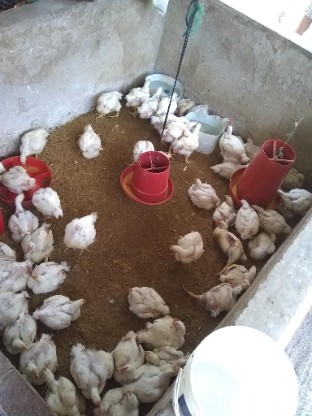Pollos: (66, 338, 111, 405), (131, 362, 184, 403), (194, 282, 250, 319), (41, 363, 80, 416), (135, 314, 196, 347), (109, 328, 145, 383), (126, 272, 169, 318), (29, 247, 73, 291), (63, 210, 105, 255), (35, 290, 87, 326), (21, 336, 60, 384), (19, 119, 57, 162), (252, 201, 292, 239), (4, 310, 37, 355), (23, 217, 55, 262), (139, 338, 185, 369), (213, 219, 244, 265), (168, 227, 204, 265), (186, 173, 221, 212), (218, 123, 251, 164), (172, 124, 206, 162), (11, 190, 34, 244), (0, 252, 33, 289), (0, 287, 29, 329), (0, 155, 34, 190), (277, 179, 312, 213), (250, 231, 281, 267), (31, 186, 61, 222), (221, 264, 261, 290), (203, 155, 244, 180), (235, 196, 259, 238), (77, 119, 102, 159), (158, 117, 194, 141), (125, 78, 154, 107), (95, 86, 122, 117), (280, 157, 305, 188), (112, 391, 142, 416), (153, 94, 184, 117), (215, 189, 235, 224), (242, 132, 264, 157), (178, 89, 195, 116), (195, 95, 214, 119), (0, 239, 16, 267), (147, 83, 163, 103), (212, 109, 231, 125)
